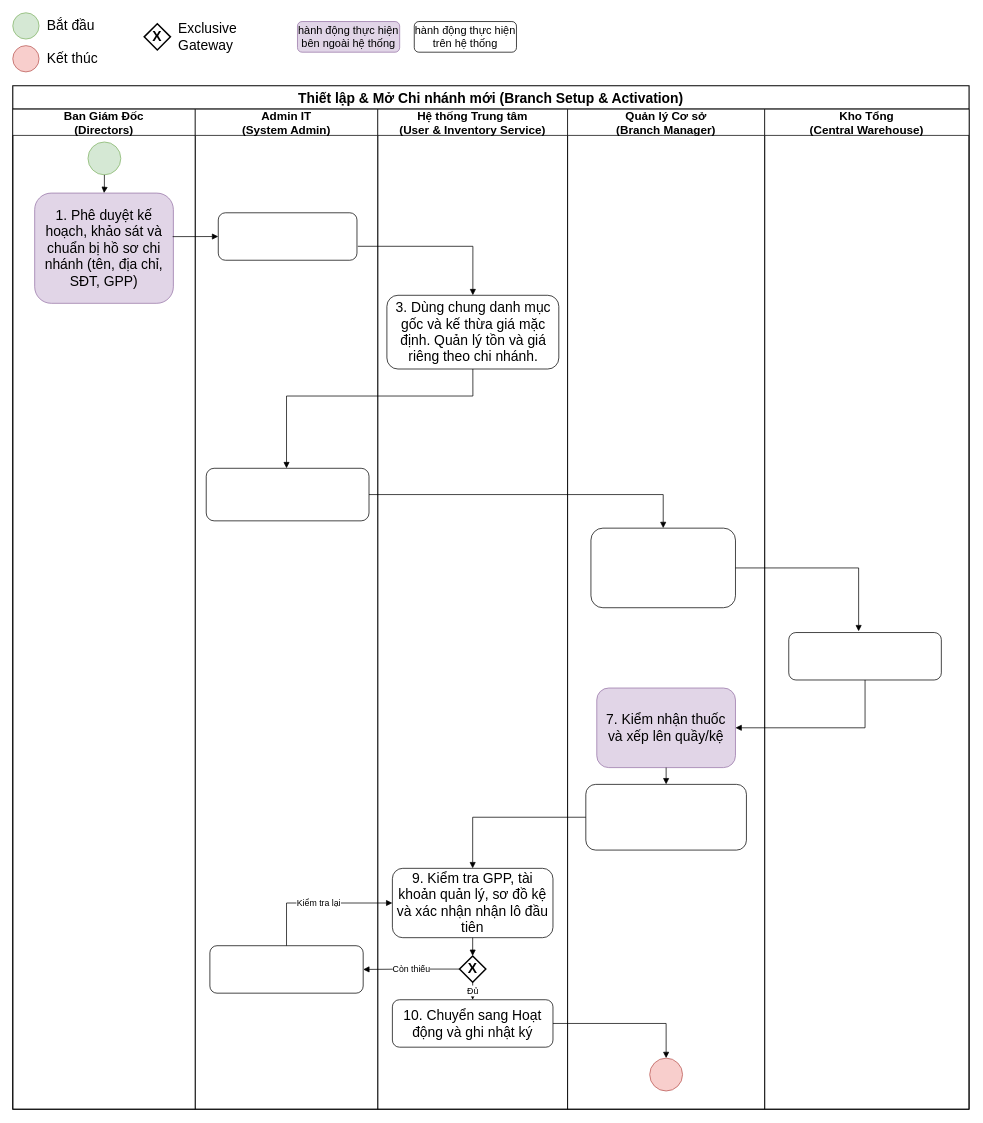
Some shapes in this 983 by 1123 pixel diagram are drawn without their labels. The centre of each missing label's shape, as x and y in pixels:
"2. Tạo chi nhánh ở trạng thái Chuẩn bị" belongs at [287,236].
"4. Phân quyền và gán tài khoản quản lý có sẵn" belongs at [287,494].
"5. Đăng nhập và thiết lập thông tin, sơ đồ quầy/kệ" belongs at [662,567].
"6. Gửi lô thuốc đầu tiên" belongs at [864,656].
"8. Xác nhận nhận hàng theo chi nhánh và ID lô, rồi yêu cầu kích hoạt" belongs at [665,817].
"End" belongs at [666,1074].
"Giữ trạng thái Chuẩn bị và bổ sung điều kiện còn thiếu" belongs at [286,969].
"Start" belongs at [104,158].
